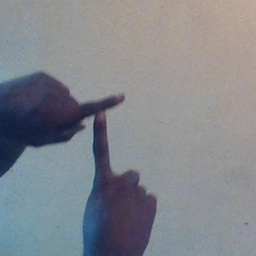T: (49, 82, 146, 190)
